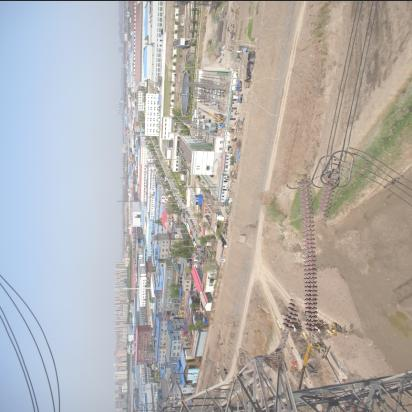insulator: (269, 178, 350, 343)
